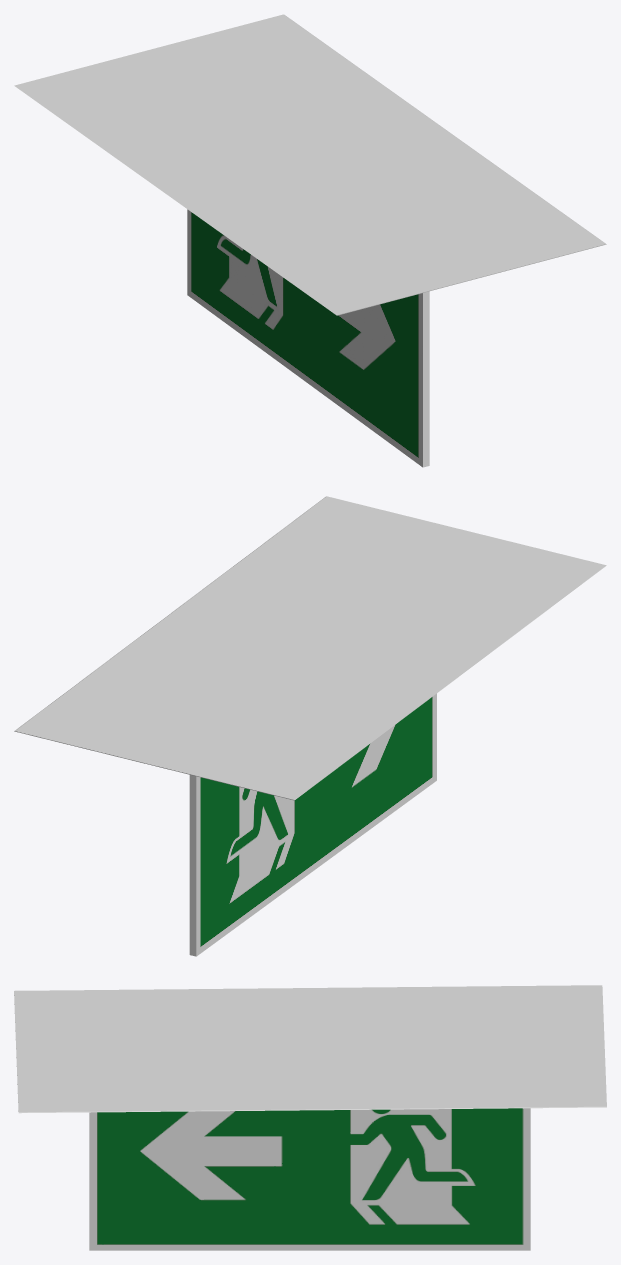
Rendered from fireexitsign_left.fbx.
3 views of the same model, one above another, from view 1: azimuth 30°, elevation 25°; view 2: azimuth 150°, elevation 25°; view 3: azimuth 270°, elevation 25° (orthographic). The views are drawn at different scales.
Visible parts, largest first — view 1: kyltin_osa1; view 2: kyltin_osa1; view 3: kyltin_osa1.
Part boxes in pixels (bbox=[...]): kyltin_osa1: bbox=[14, 14, 606, 467]; kyltin_osa1: bbox=[14, 496, 606, 956]; kyltin_osa1: bbox=[14, 985, 606, 1250].
Size of the model in its own units: 20.69 by 15.28 by 40.31.
Materials: 2 (1 with a texture image).
